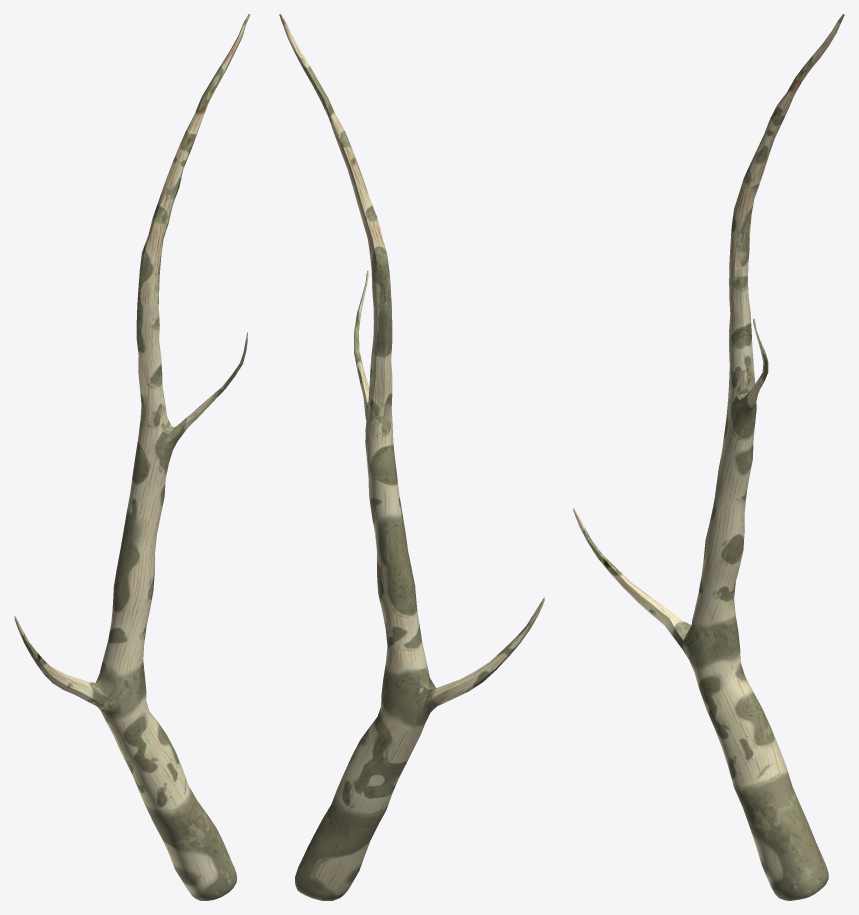
3 renders of one model, left to right at view 1: azimuth 30°, elevation 25°; view 2: azimuth 150°, elevation 25°; view 3: azimuth 330°, elevation 25°, orthographic. The views are drawn at different scales.
Parts seen in each view (by area): view 1: Object_2; view 2: Object_2; view 3: Object_2.
Boxes of the visible parts, x1,y1,x2,y2 form: Object_2: [14, 14, 250, 900]; Object_2: [279, 14, 544, 900]; Object_2: [573, 14, 844, 900].
Bounding box in the file's own units: 4.67 × 15.53 × 1.82.
Materials: 1 (1 with a texture image).
